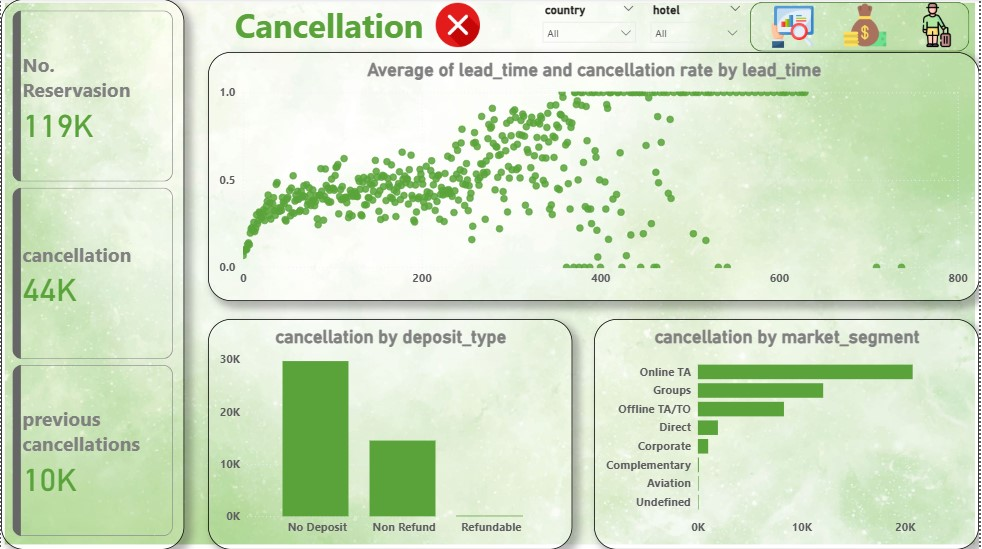

Layout of this report page (visuals, bound fields, positions):
{"tool":"powerbi","page":{"name":"Cancellation","canvas":[1280,720],"ordinal":2},"visuals":[{"type":"image","box":[0,0,1280,719.5],"z":0},{"type":"scatterChart","fields":{"X":["Avg(FactReservation.lead_time)"],"Y":["MyMeasures.cancellation rate"],"Category":["FactReservation.lead_time"]},"box":[270.4,68.9,1009.6,325.9],"z":1000},{"type":"clusteredColumnChart","fields":{"Y":["MyMeasures.cancellation"],"Category":["FactReservation.deposit_type"]},"box":[270.4,418.3,477.1,302.4],"z":2000},{"type":"clusteredBarChart","fields":{"Y":["MyMeasures.cancellation"],"Category":["FactReservation.market_segment"]},"box":[776.1,418.3,503.9,302.4],"z":3000},{"type":"cardVisual","fields":{"Data":["MyMeasures.No. Reservasion","MyMeasures.cancellation","Sum(FactReservation.previous_cancellations)"]},"box":[0,0,240.2,720.6],"z":4000},{"type":"textbox","box":[300.8,0,299.1,68.4],"z":5000},{"type":"shape","box":[980.9,3.4,287.1,64.9],"z":6000},{"type":"image","box":[1003.2,3.4,66.6,64.9],"z":7000},{"type":"image","box":[1083.5,0,94,68.4],"z":8000},{"type":"image","box":[1189.4,0,70.1,68.4],"z":9000},{"type":"image","box":[555.4,0,85.4,68.4],"z":10000},{"type":"slicer","fields":{"Values":["DimHotel.hotel"]},"box":[840.8,0,140.1,68.4],"z":11000},{"type":"slicer","fields":{"Values":["DimCountry.country"]},"box":[699,0,141.8,68.4],"z":12000}]}

Visuals, with their boxes in screenshot pixels (x1, y1, x2, y2), scaled from the page's 1280x720 canvas onto the 982x549 screenshot:
image: {"x1": 0, "y1": 0, "x2": 981, "y2": 548}
scatterChart - Avg(FactReservation.lead_time) x MyMeasures.cancellation rate: {"x1": 207, "y1": 53, "x2": 981, "y2": 301}
clusteredColumnChart - MyMeasures.cancellation x FactReservation.deposit_type: {"x1": 207, "y1": 319, "x2": 573, "y2": 548}
clusteredBarChart - MyMeasures.cancellation x FactReservation.market_segment: {"x1": 595, "y1": 319, "x2": 981, "y2": 548}
cardVisual - MyMeasures.No. Reservasion x MyMeasures.cancellation: {"x1": 0, "y1": 0, "x2": 184, "y2": 548}
textbox: {"x1": 231, "y1": 0, "x2": 460, "y2": 52}
shape: {"x1": 753, "y1": 3, "x2": 973, "y2": 52}
image: {"x1": 770, "y1": 3, "x2": 821, "y2": 52}
image: {"x1": 831, "y1": 0, "x2": 903, "y2": 52}
image: {"x1": 912, "y1": 0, "x2": 966, "y2": 52}
image: {"x1": 426, "y1": 0, "x2": 492, "y2": 52}
slicer - DimHotel.hotel: {"x1": 645, "y1": 0, "x2": 753, "y2": 52}
slicer - DimCountry.country: {"x1": 536, "y1": 0, "x2": 645, "y2": 52}
